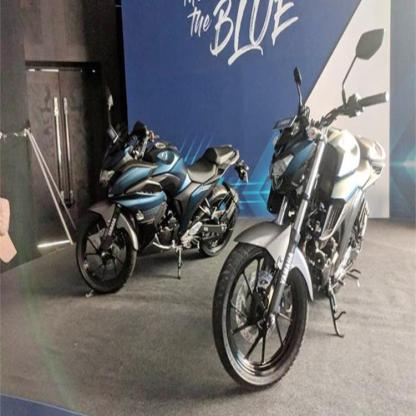bike: (222, 19, 383, 389), (72, 89, 240, 286)
